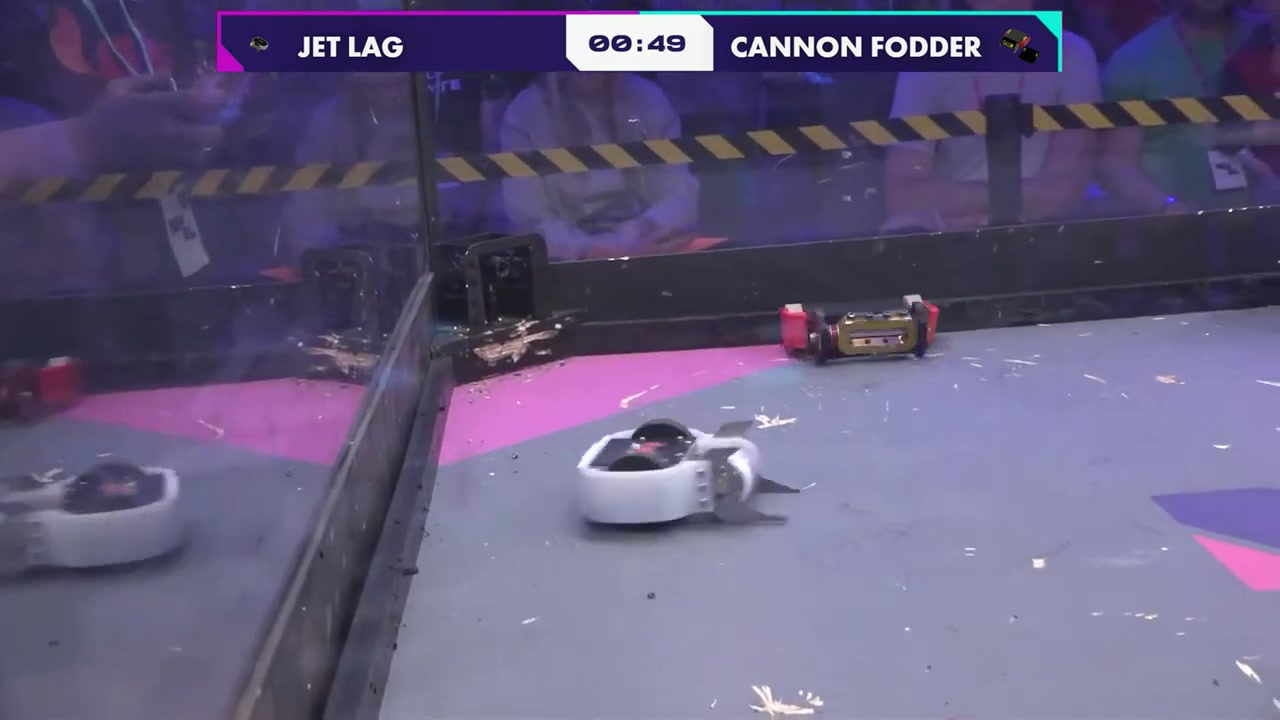combatbot: (0, 441, 190, 607), (576, 419, 800, 528), (779, 293, 941, 371), (0, 354, 82, 431)
